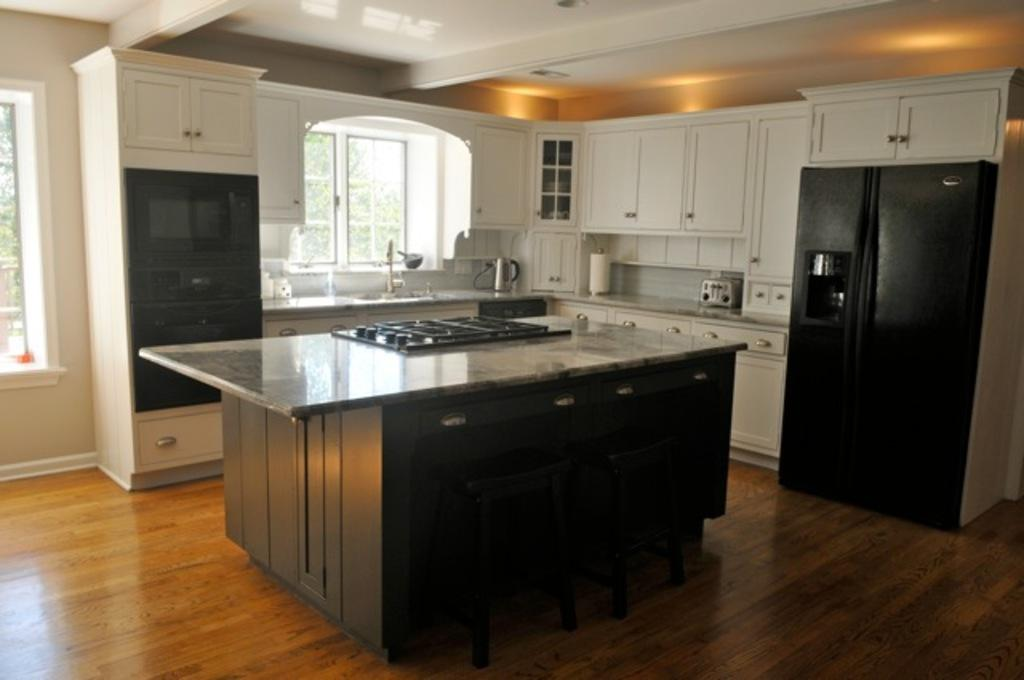cabinet_door: (750, 121, 798, 267), (430, 392, 584, 432), (626, 128, 684, 228), (476, 130, 530, 232), (177, 74, 251, 148), (692, 130, 742, 232), (898, 103, 992, 156), (595, 369, 723, 404), (816, 108, 898, 160), (130, 74, 184, 148), (584, 130, 626, 218), (531, 133, 571, 221), (146, 422, 224, 462), (534, 235, 576, 291), (700, 326, 782, 351), (770, 286, 792, 307), (754, 286, 776, 305)
handle: (860, 244, 883, 386), (842, 230, 856, 386), (438, 413, 472, 432), (550, 394, 582, 410), (614, 382, 640, 399), (878, 128, 898, 148), (691, 368, 713, 386), (156, 436, 178, 452), (895, 131, 911, 153), (754, 337, 772, 356)
